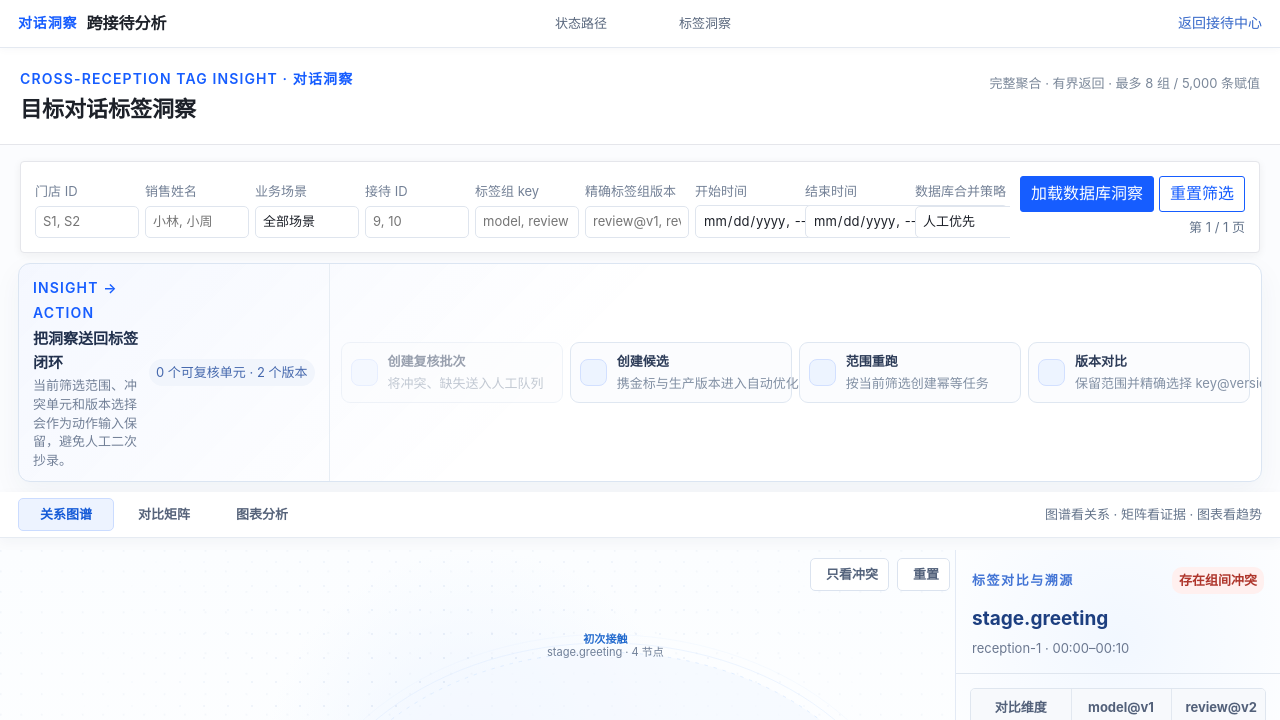
Test case: TagInsightsPage › switches true tab panels without scrolling or changing the route
The image size is (1280, 720).
(page scrolled)
Expected: the navigation bar named "标签洞察视图" is shown, [0,492,1279,538]
Click the tab "对比矩阵".
click(164, 514)  # box [116,498,212,531]
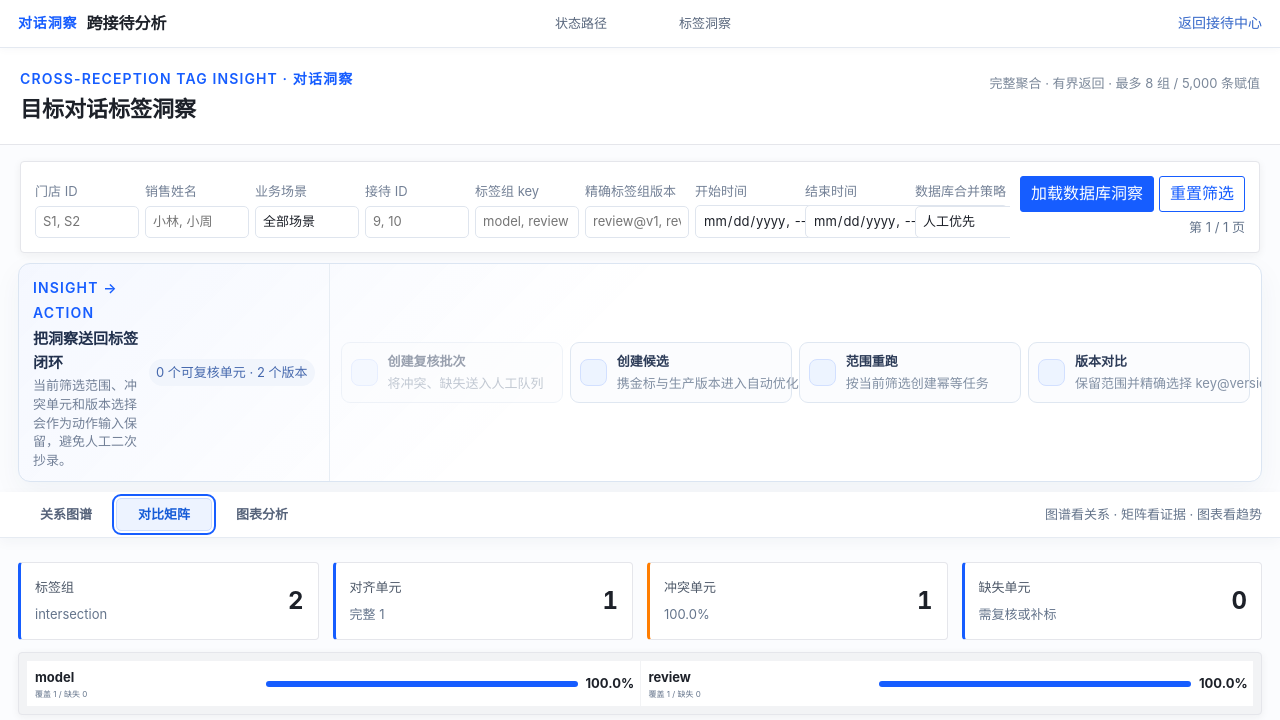
Now the heading "多标签组对比与溯源图" is gone
Click the tab "图表分析".
click(262, 514)  # box [214,498,310,531]
(page scrolled)
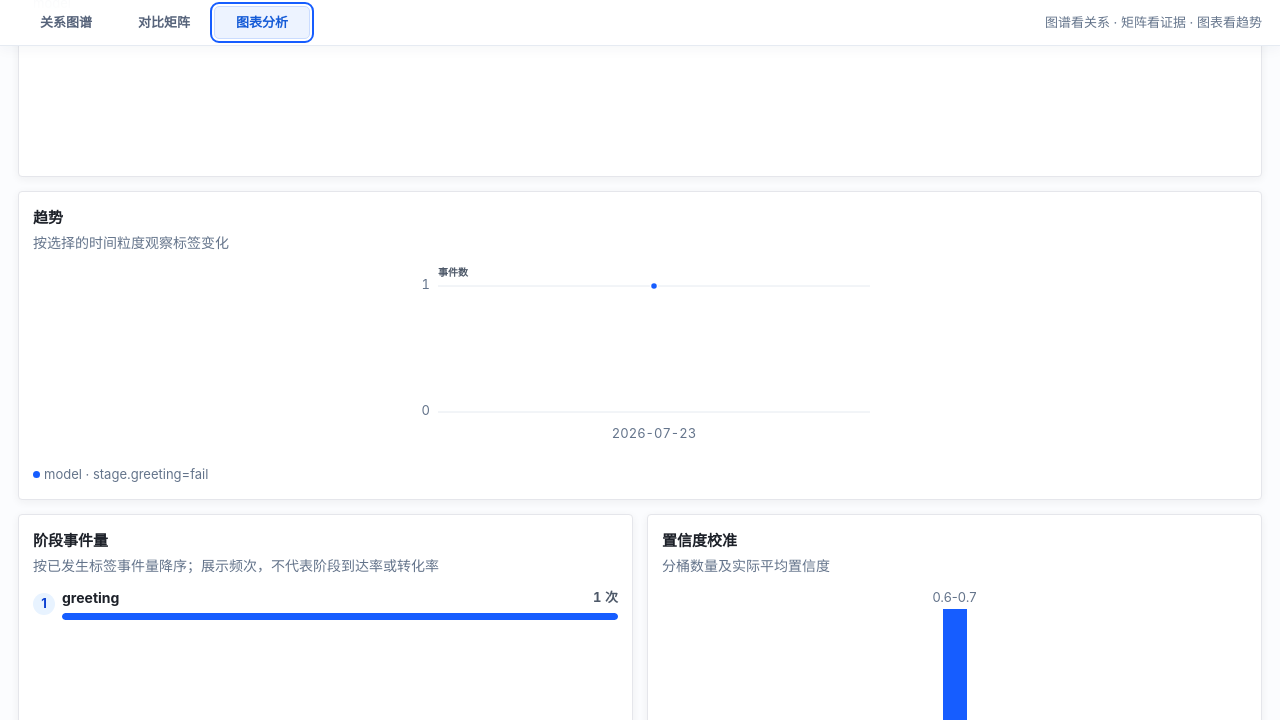
Now the icon named "标签趋势折线图" is shown, box [33,264,1247,456]
